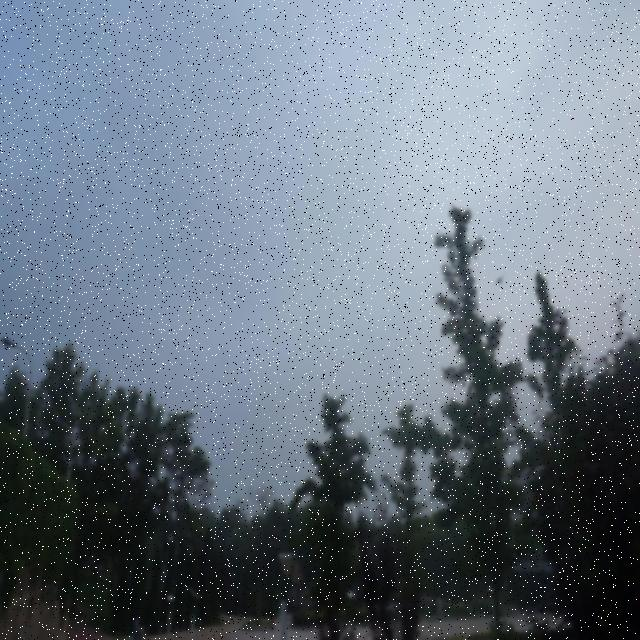UAV: (494, 274, 505, 285)
